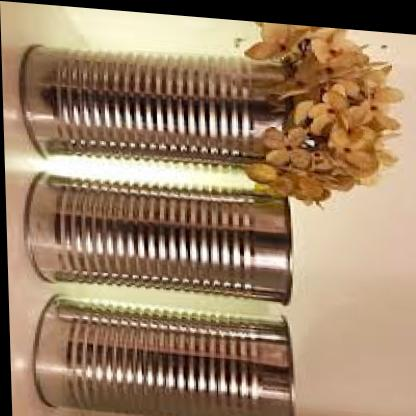Metal: (6, 0, 311, 416)
